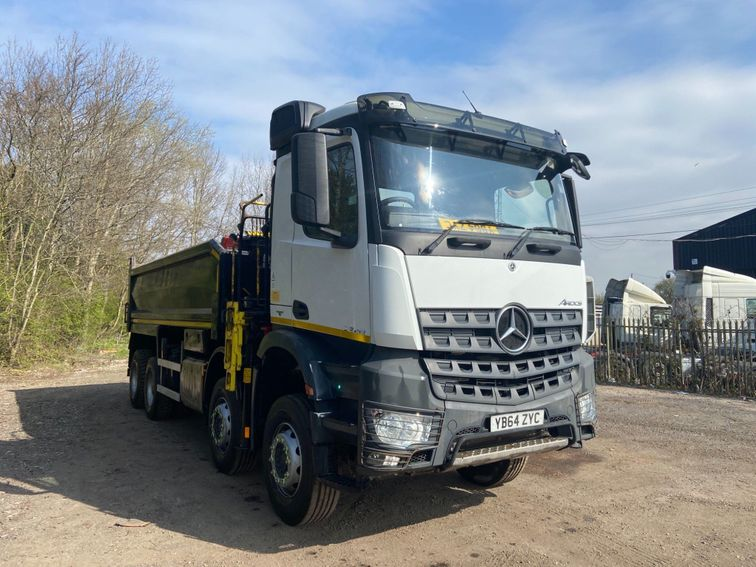Semi: (124, 91, 598, 528)
